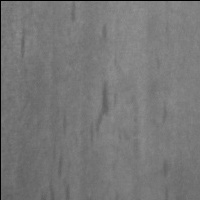inclusion: (43, 102, 75, 200), (85, 77, 126, 143), (12, 23, 35, 64), (157, 96, 173, 127), (158, 154, 173, 180)
